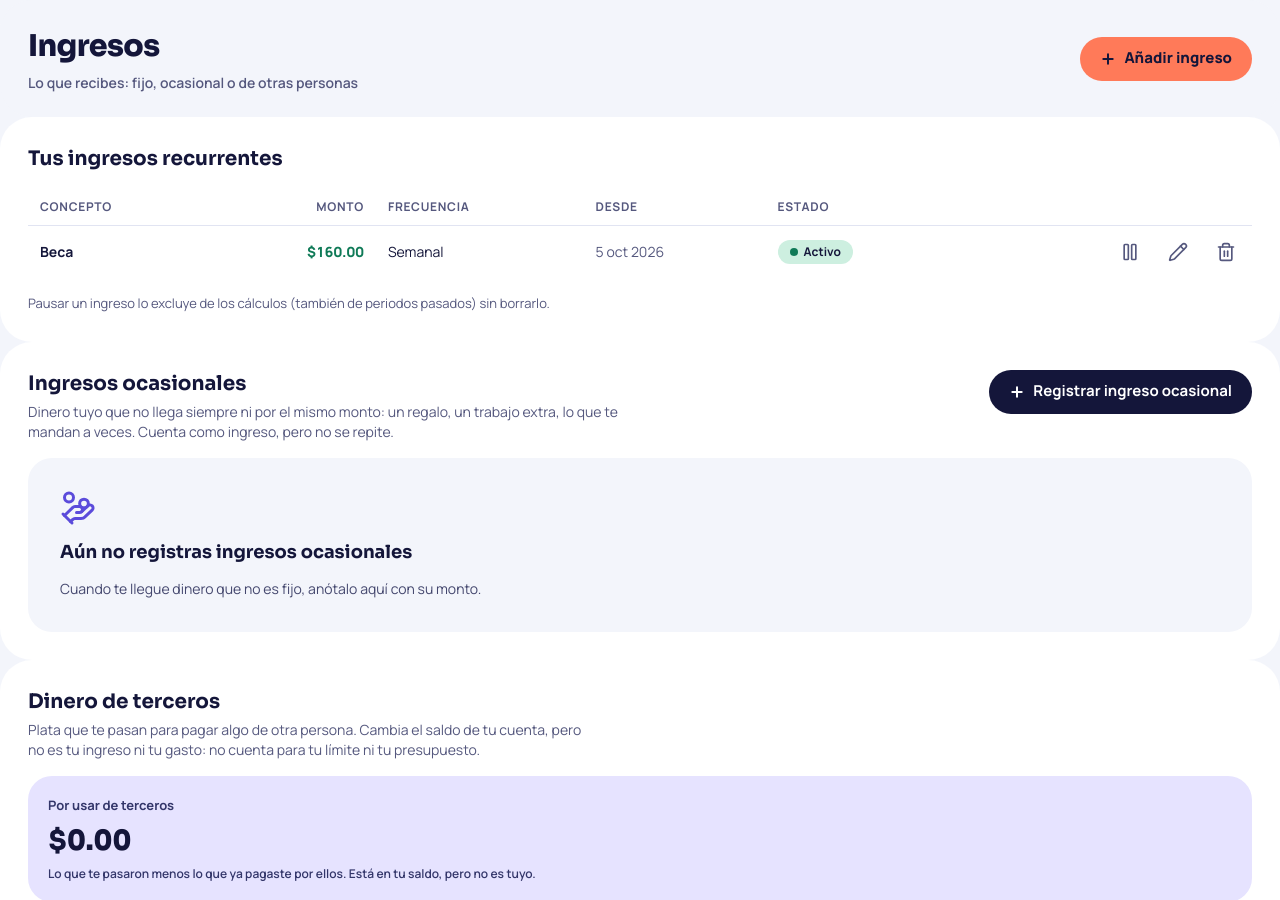
it: IncomesPage › creates an income from the dialog and confirms it
Expected: the column heading "Beca" is shown, [28, 226, 217, 278]
Click the button "Añadir ingreso" at (1166, 58), box [1080, 36, 1252, 80]
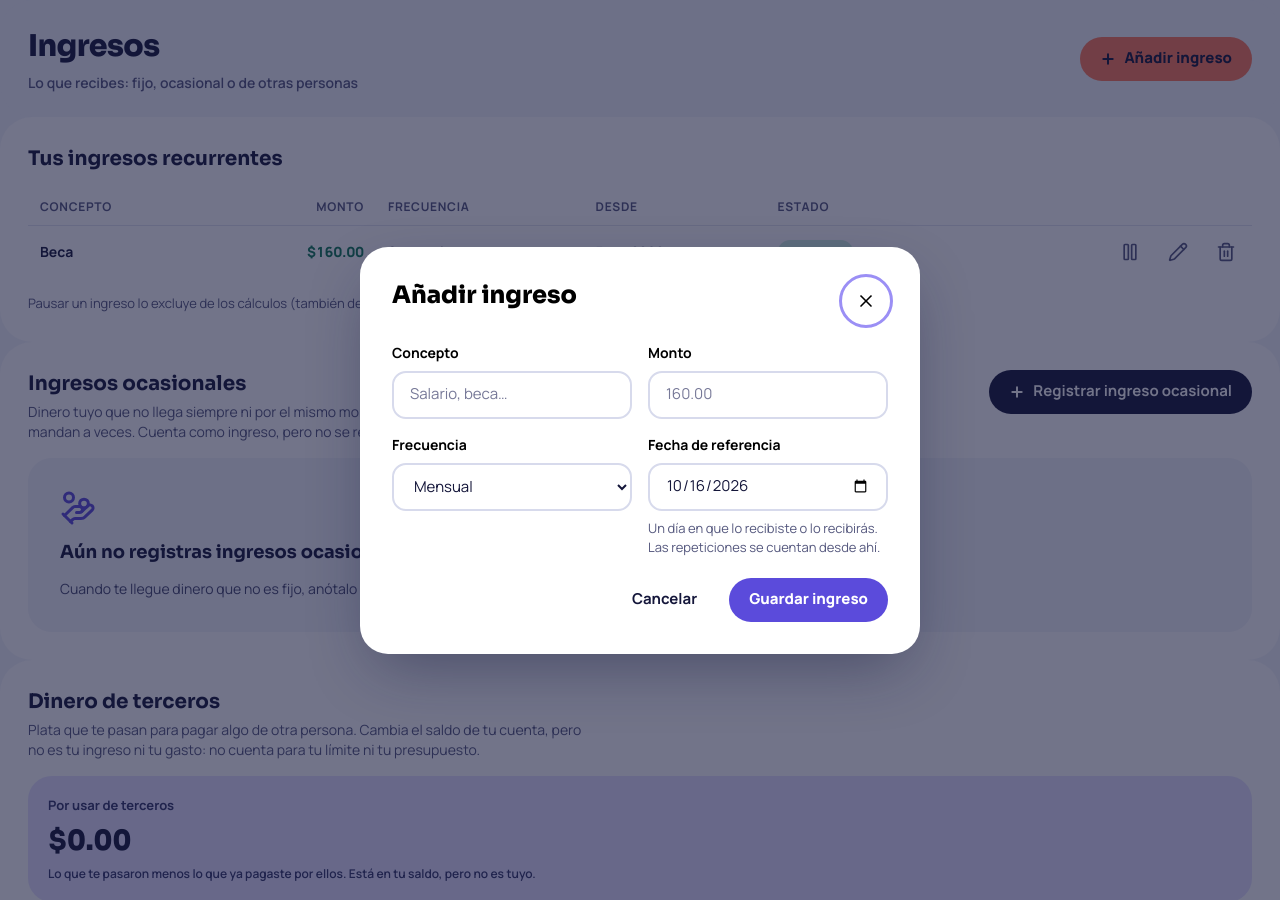
Type "Salario" into the field labelled "Concepto" at (512, 394), box [392, 370, 632, 418]
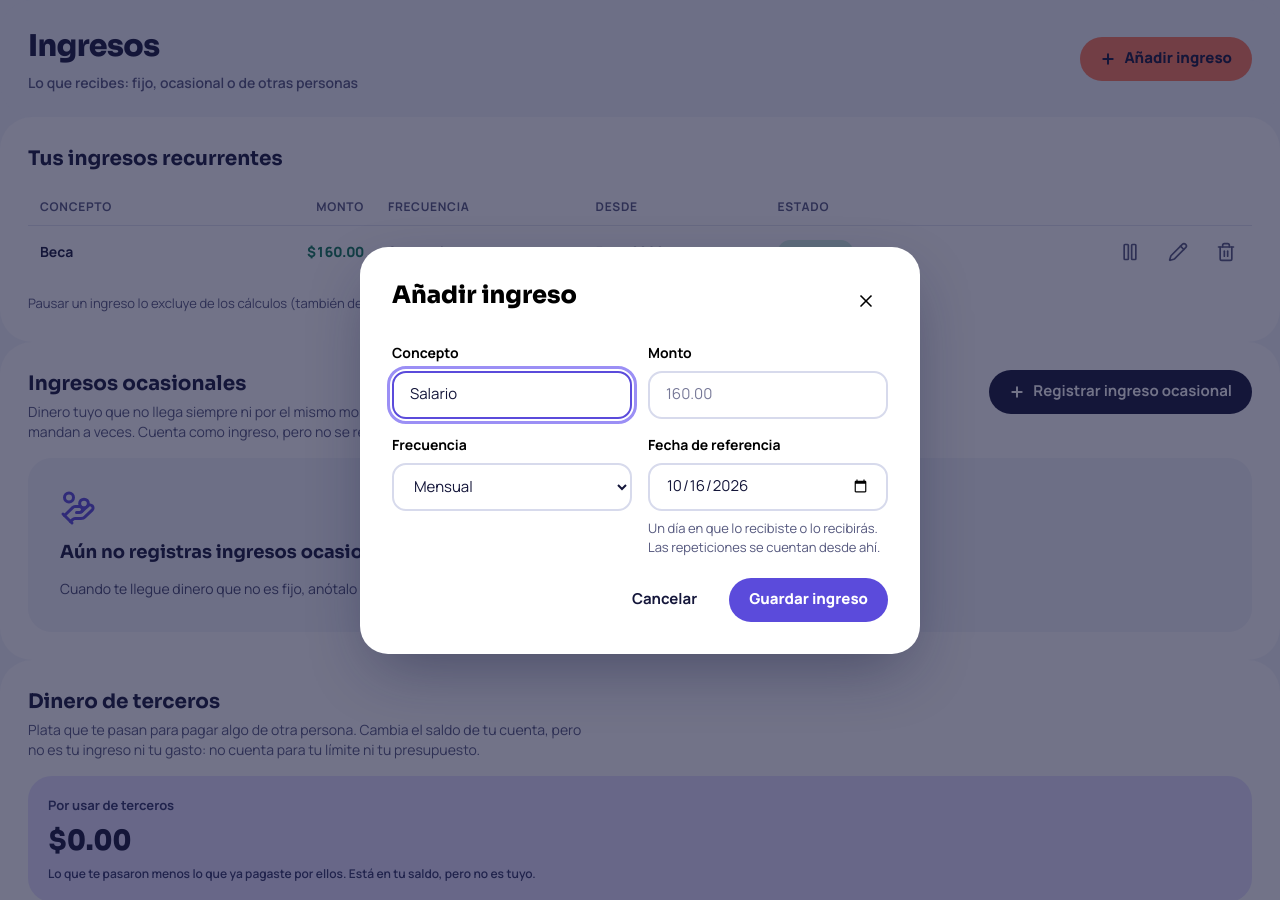
Type "500" into the field labelled "Monto" at (768, 394), box [648, 370, 888, 418]
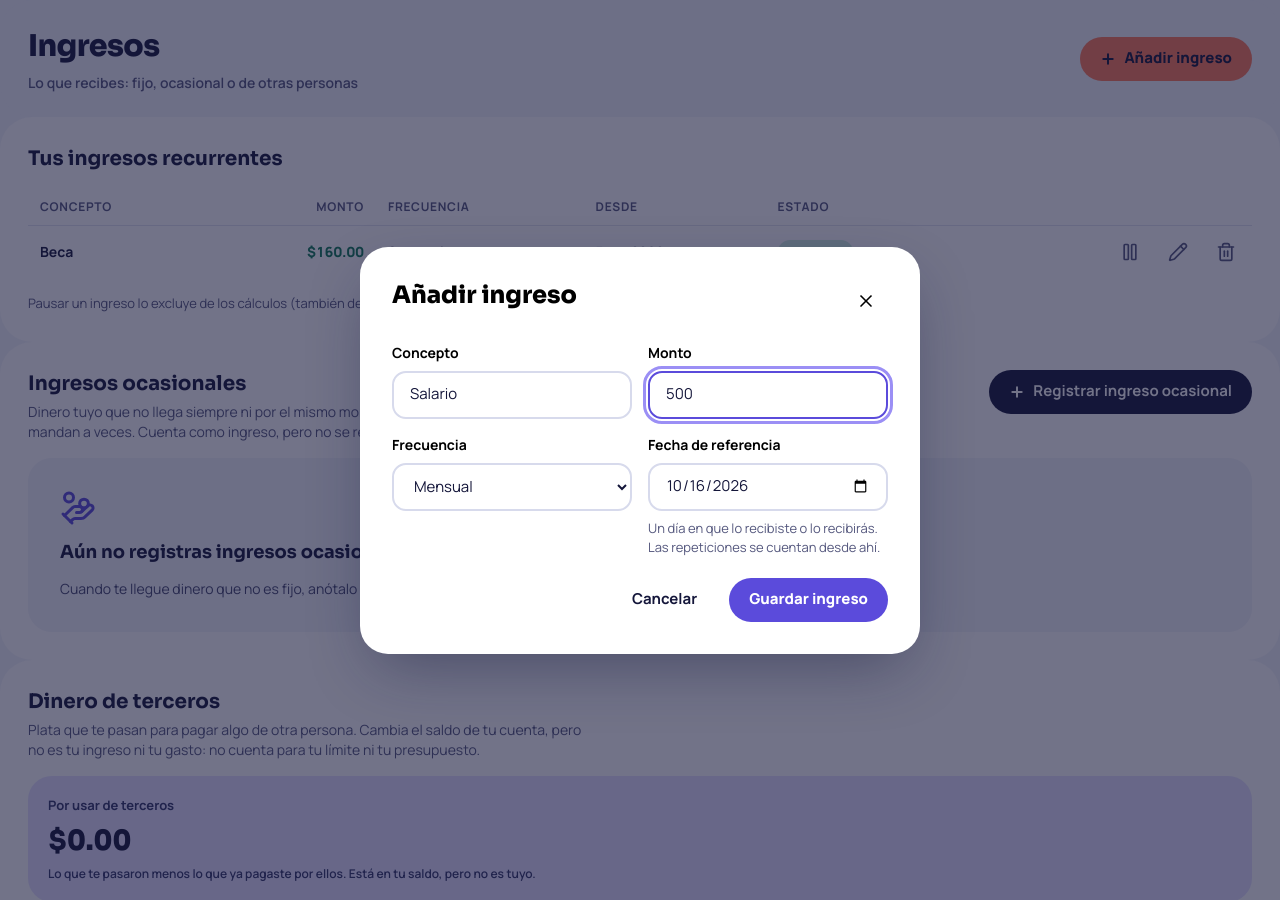
Click the button "Guardar ingreso" at (809, 600), box [729, 578, 888, 622]
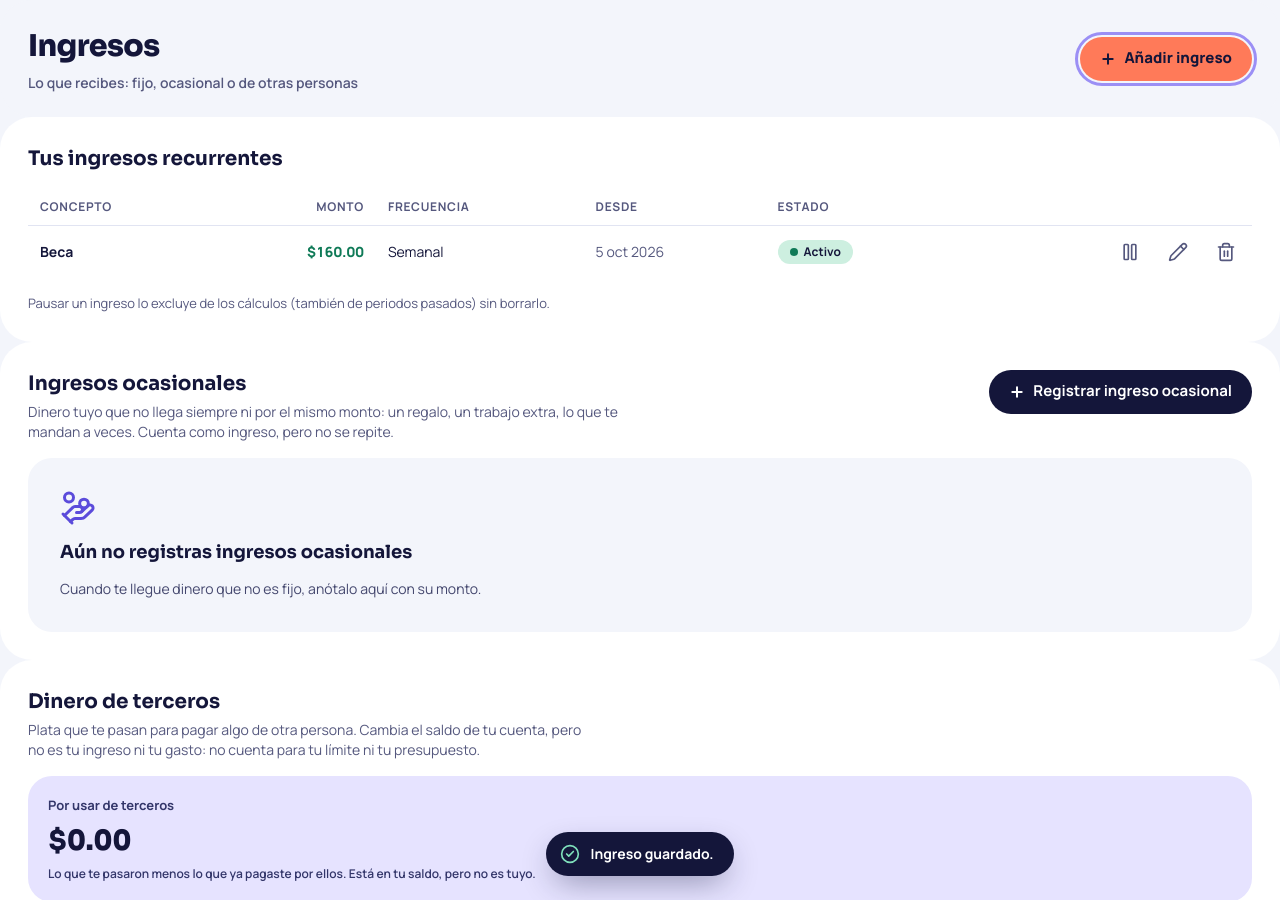
Expected: the message reads "Ingreso guardado.", [590, 844, 714, 863]
